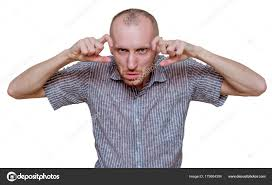white_male: (97, 11, 158, 97)
